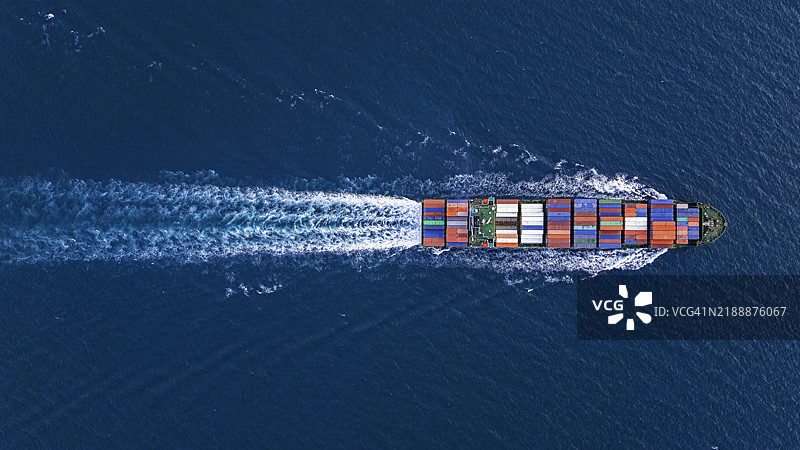ship: (389, 172, 737, 269)
